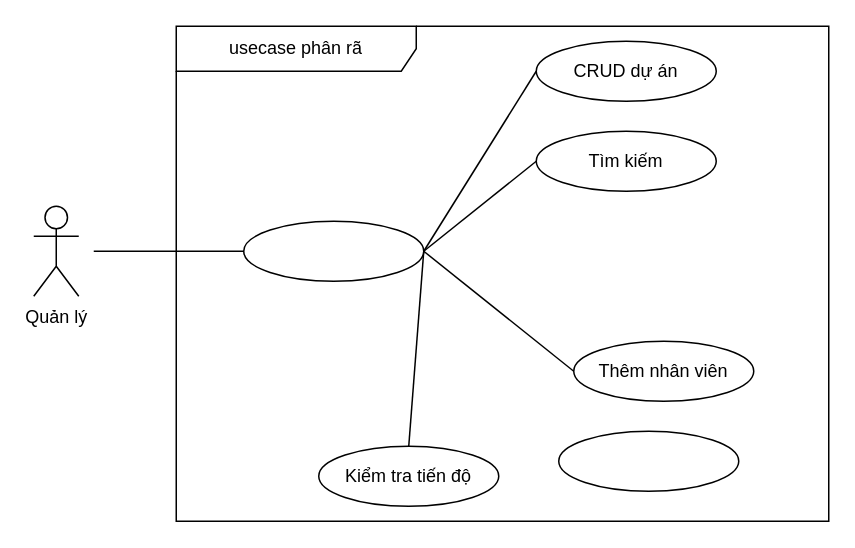
This 855x548 diagram has some shape labels left out. The shapes that lost their labels are listed below. From the top down, each one's centre as x and y in pixels, then its label:
At (333,250): "Quản lý dự án".
At (648,460): "Phân công task cho nhân viên".
